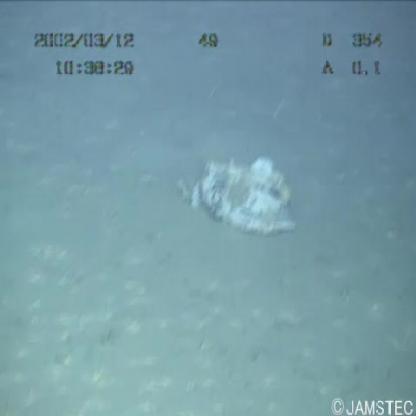Rác: (157, 138, 306, 242)
